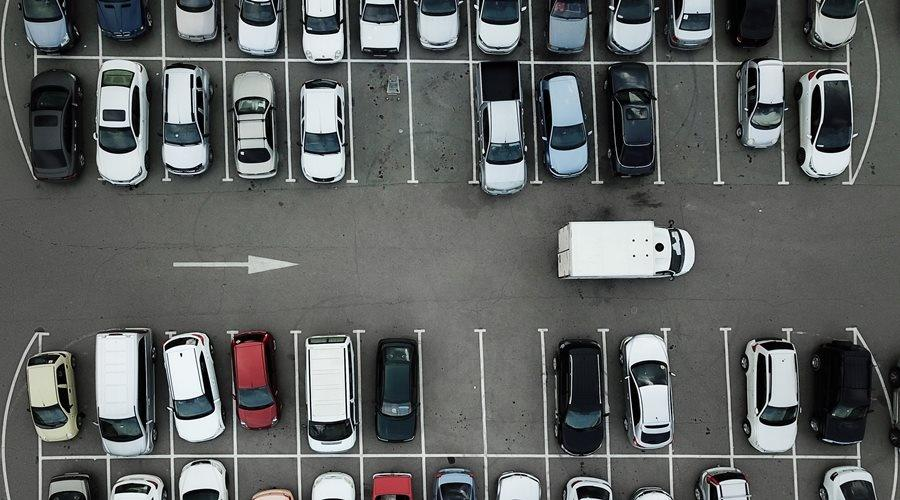occupied: (789, 330, 859, 457), (726, 330, 795, 457), (781, 63, 851, 183), (604, 330, 670, 456), (543, 330, 608, 456), (233, 332, 299, 456), (296, 332, 362, 456), (592, 63, 660, 183), (716, 63, 784, 183), (359, 331, 424, 456), (171, 333, 236, 457), (286, 60, 352, 182), (224, 60, 290, 180), (471, 62, 537, 182), (532, 63, 598, 182), (164, 58, 228, 180)
vacant: (665, 329, 732, 457), (419, 331, 486, 455), (481, 331, 547, 456), (409, 61, 475, 182), (654, 63, 719, 182), (349, 61, 413, 181)
